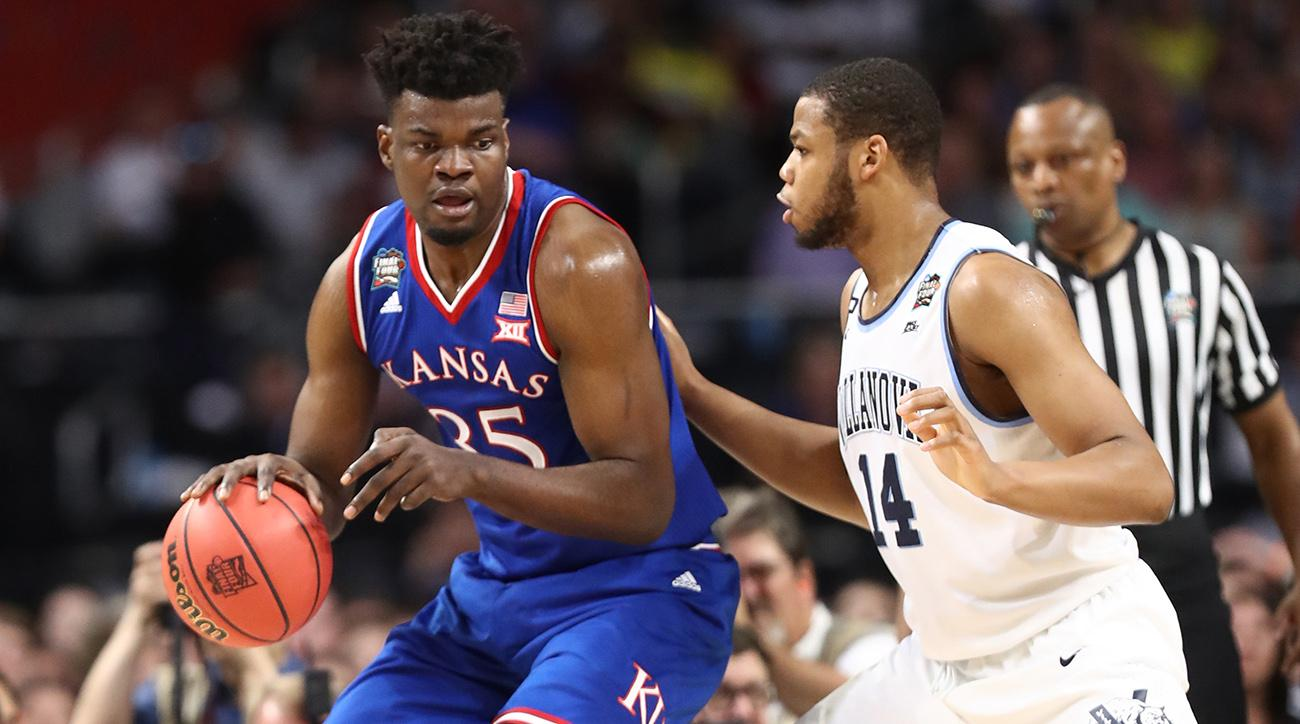ball: (132, 460, 363, 647)
breakthrough: (141, 9, 770, 724)
defense: (699, 49, 1227, 724)
